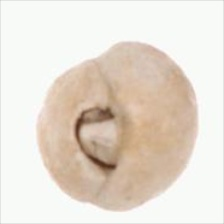L3: (72, 100, 129, 179)
L4: (36, 42, 198, 213)
